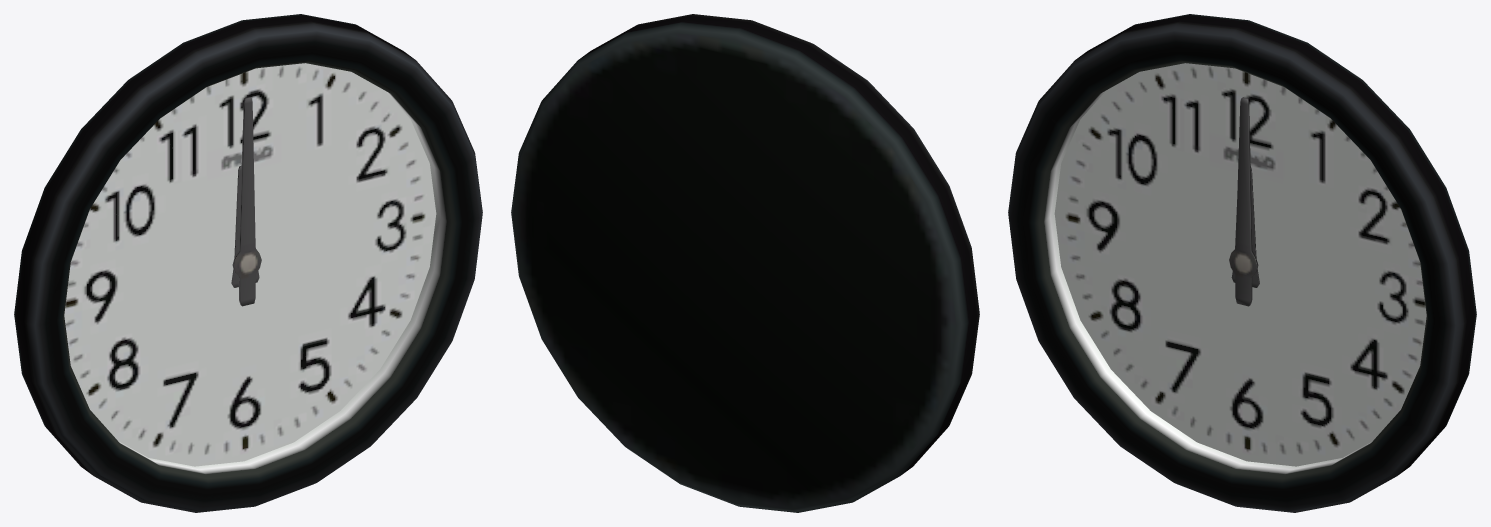
The model's file is animal_crossing_new_horizons_office_clock.glb.
The picture shows the model from 3 angles, left to right: view 1: azimuth 30°, elevation 25°; view 2: azimuth 150°, elevation 25°; view 3: azimuth 330°, elevation 25°; orthographic projection.
Visible parts, largest first — view 1: Object_3; view 2: Object_3; view 3: Object_3.
Part boxes in pixels (box(x1,y1,x2,y2)): Object_3: box(14, 14, 482, 512); Object_3: box(511, 14, 979, 512); Object_3: box(1008, 14, 1476, 512).
Size of the model in its own units: 6.92 by 6.92 by 0.5767.
1 material, 1 textured.
